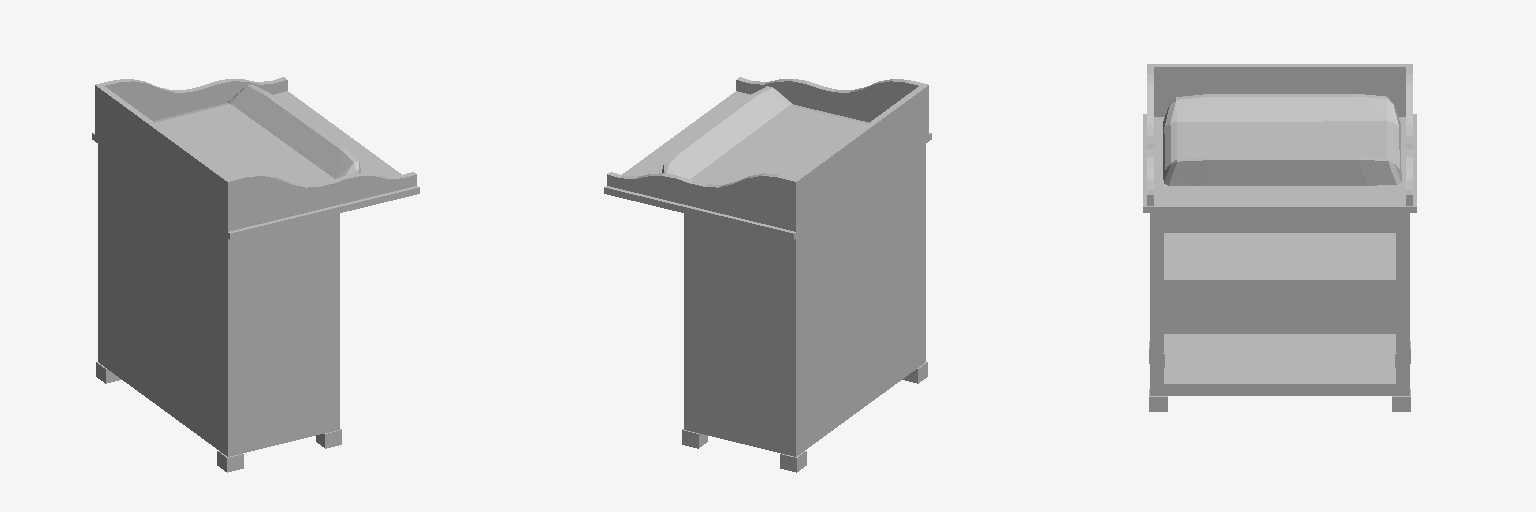
File: counter.obj
3 renders of one model, left to right at view 1: azimuth 30°, elevation 25°; view 2: azimuth 150°, elevation 25°; view 3: azimuth 270°, elevation 25°, orthographic.
Parts seen in each view (by area): view 1: SM_ChangingDresser; view 2: SM_ChangingDresser; view 3: SM_ChangingDresser.
Part boxes in pixels (bbox=[...]): SM_ChangingDresser: bbox=[92, 77, 419, 472]; SM_ChangingDresser: bbox=[604, 77, 931, 472]; SM_ChangingDresser: bbox=[1143, 64, 1416, 411].
Size of the model in its own units: 0.6758 by 0.992 by 0.8486.